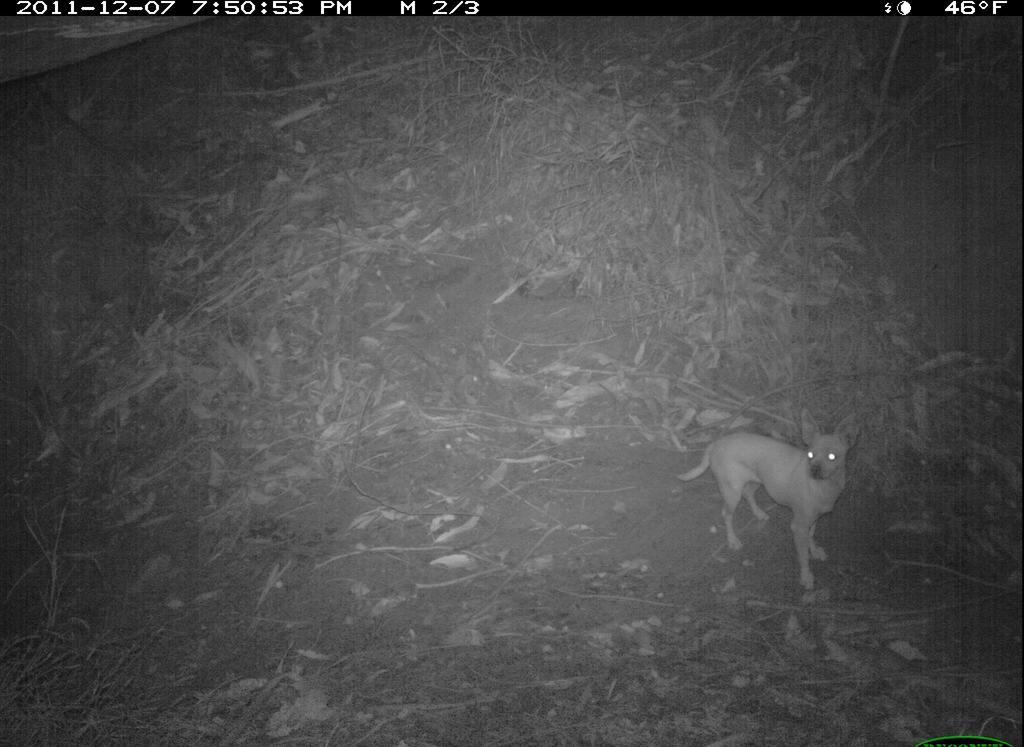dog: (667, 406, 866, 596)
